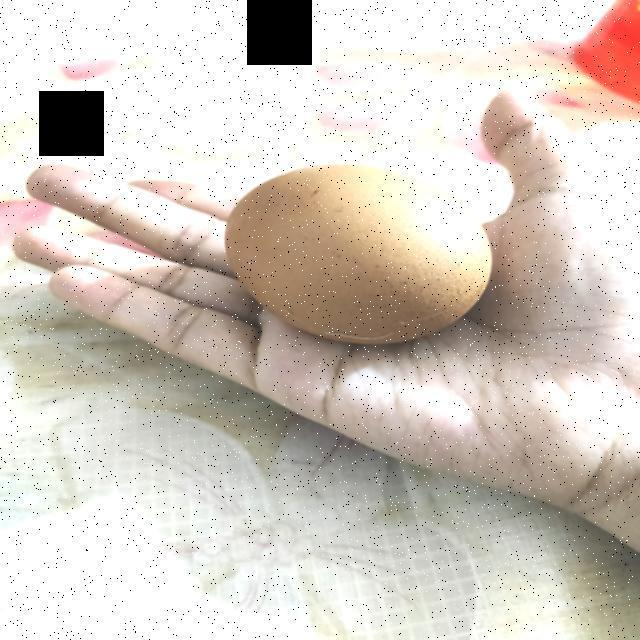egg: (216, 162, 502, 346)
